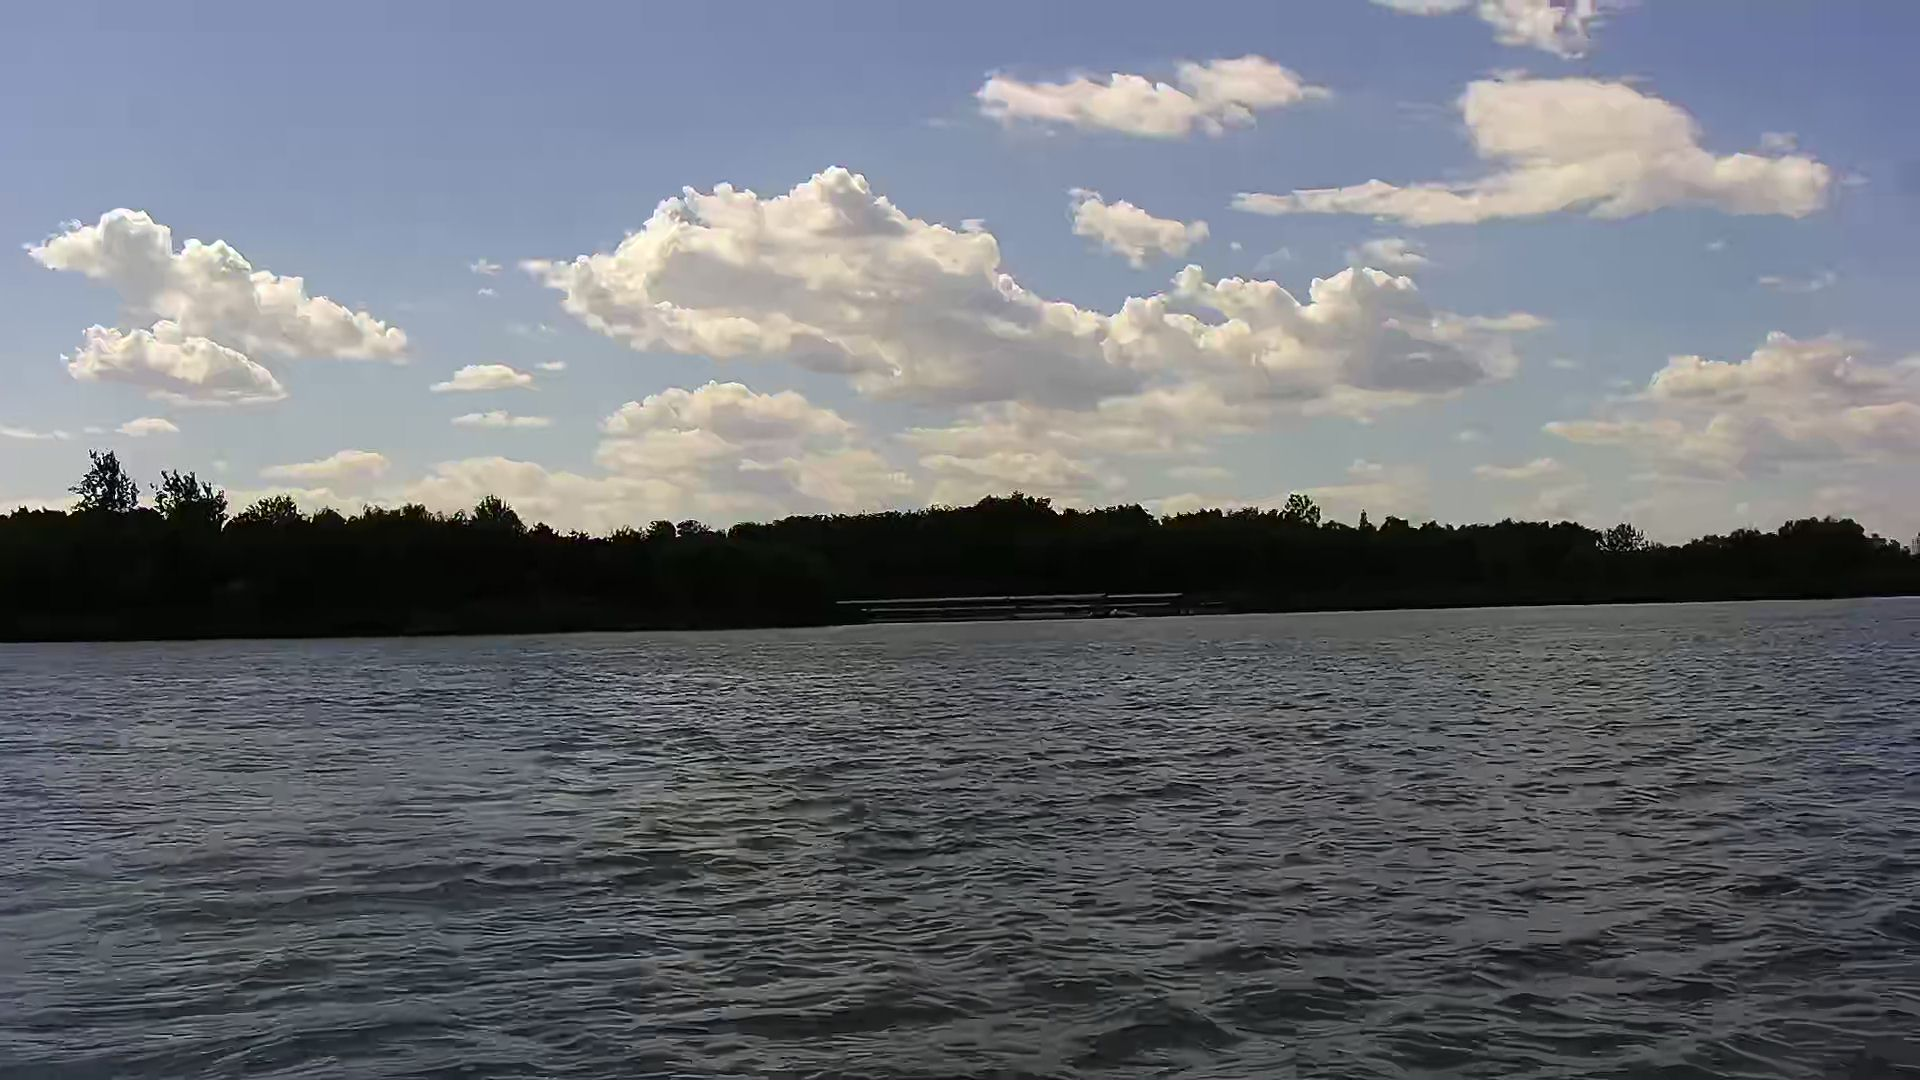bridge: (837, 596, 1185, 622)
